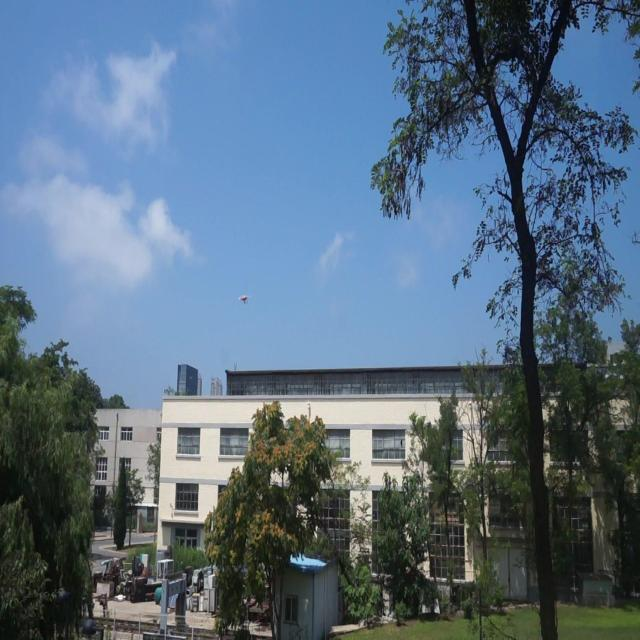drone: (238, 292, 250, 309)
